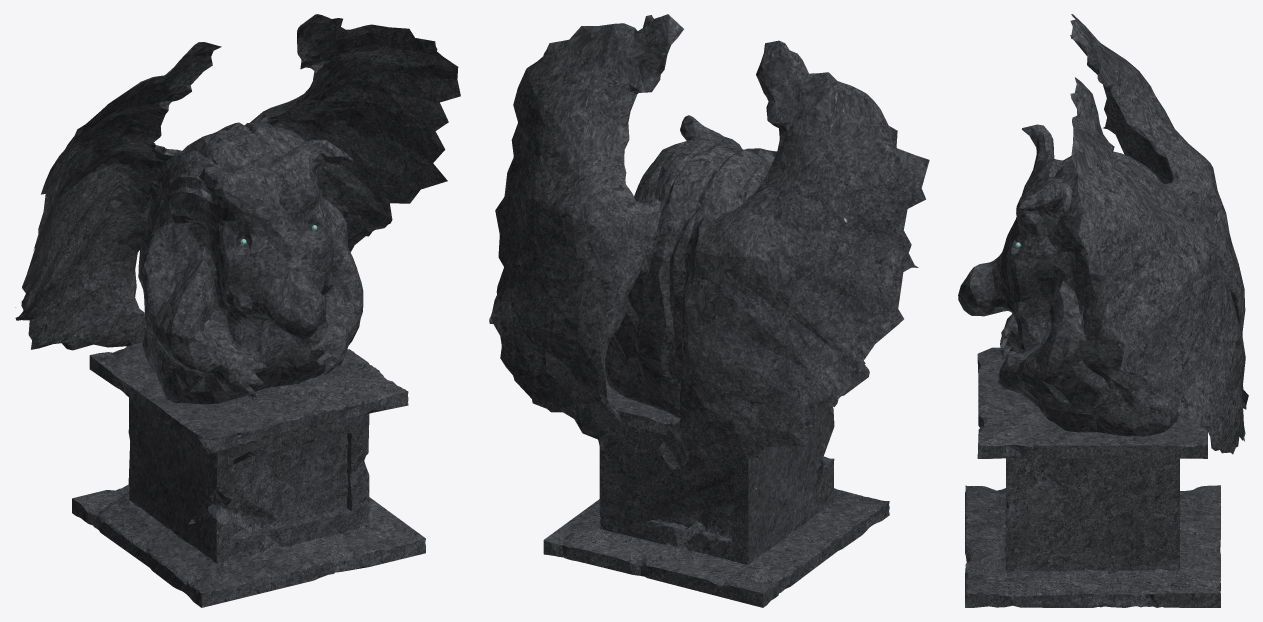
Rendered from gargoyle-pedestal.fbx.
3 renders of one model, left to right at view 1: azimuth 30°, elevation 25°; view 2: azimuth 150°, elevation 25°; view 3: azimuth 270°, elevation 25°, orthographic. The views are drawn at different scales.
Parts seen in each view (by area): view 1: gargoyle, pedestal; view 2: gargoyle, pedestal; view 3: gargoyle, pedestal.
Boxes of the visible parts, <box> form: gargoyle: <box>15,14,460,404</box>; pedestal: <box>72,342,425,607</box>; gargoyle: <box>489,14,929,469</box>; pedestal: <box>543,364,889,607</box>; gargoyle: <box>958,14,1248,454</box>; pedestal: <box>965,347,1220,607</box>.
Size of the model in its own units: 296 by 341 by 178.
